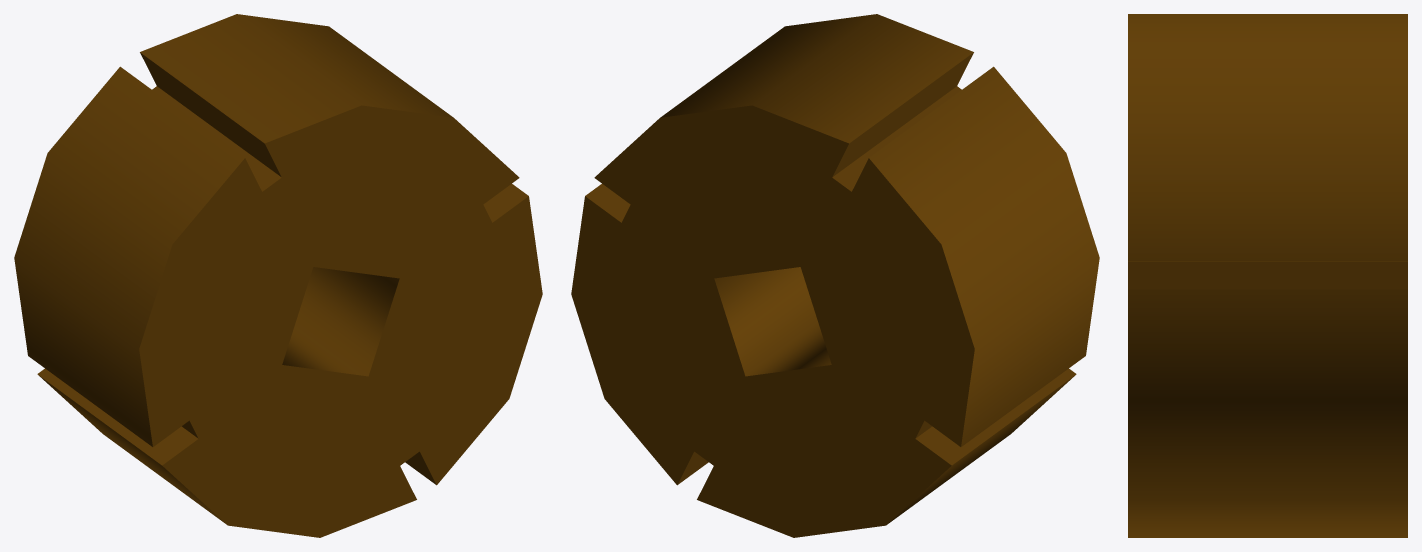
File: Rondelle volant_Heures_instance_1.obj
The picture shows the model from 3 angles, left to right: view 1: azimuth 30°, elevation 25°; view 2: azimuth 150°, elevation 25°; view 3: azimuth 270°, elevation 25°; orthographic projection. The views are drawn at different scales.
Parts seen in each view (by area): view 1: Face_4, Face_1, Face_2, Face_7, Face_14, Face_18, Face_6, Face_16, Face_11; view 2: Face_5, Face_1, Face_2, Face_7, Face_14, Face_18, Face_6, Face_16, Face_11; view 3: Face_3, Face_2, Face_13.
Boxes of the visible parts, bbox=[...] form: Face_4: bbox=[139, 105, 542, 537]; Face_1: bbox=[14, 66, 244, 446]; Face_2: bbox=[140, 14, 453, 143]; Face_7: bbox=[282, 267, 399, 376]; Face_14: bbox=[140, 52, 281, 176]; Face_18: bbox=[37, 368, 198, 465]; Face_6: bbox=[38, 375, 226, 524]; Face_16: bbox=[152, 86, 281, 191]; Face_11: bbox=[483, 184, 528, 222]; Face_5: bbox=[571, 105, 974, 537]; Face_1: bbox=[869, 66, 1099, 446]; Face_2: bbox=[660, 14, 973, 143]; Face_7: bbox=[714, 267, 831, 376]; Face_14: bbox=[832, 52, 973, 176]; Face_18: bbox=[915, 368, 1076, 465]; Face_6: bbox=[887, 375, 1075, 524]; Face_16: bbox=[832, 86, 961, 191]; Face_11: bbox=[585, 184, 630, 222]; Face_3: bbox=[1128, 289, 1407, 537]; Face_2: bbox=[1128, 14, 1407, 261]; Face_13: bbox=[1128, 261, 1407, 289].
Bounding box in the file's own units: 0.00746 × 0.00746 × 0.004.
